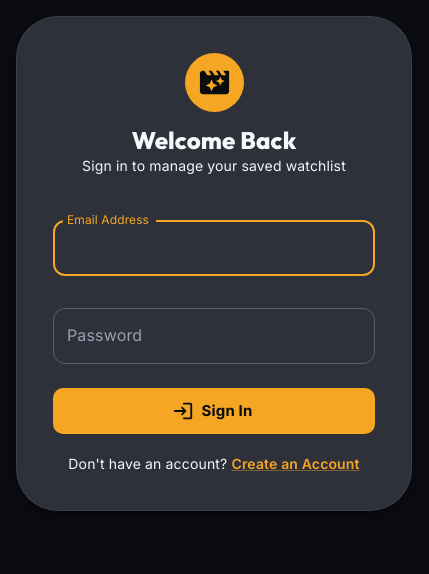
Scenario: Authentication Form Integration Tests › LoginPage › shows validation errors for empty email and short password
Click the button "Sign In" at [214, 411], box [53, 388, 375, 434]
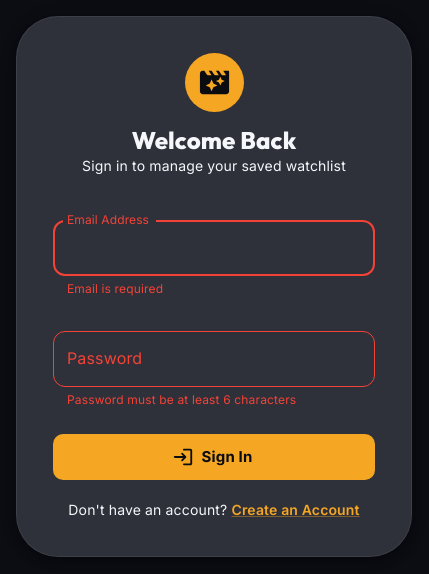
Result: the text "Email is required" is shown at [67, 281, 163, 296]
